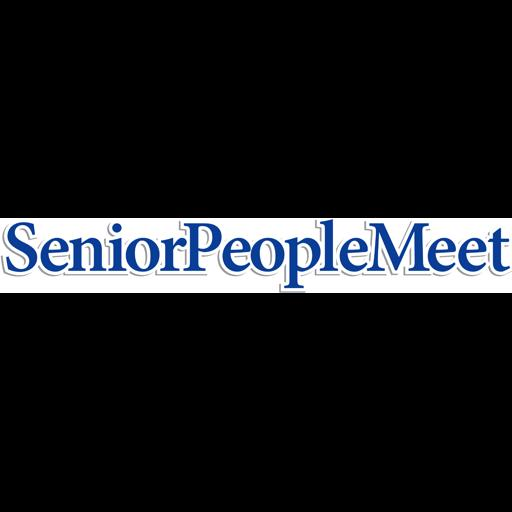Senior People Meet: (0, 218, 512, 293)
